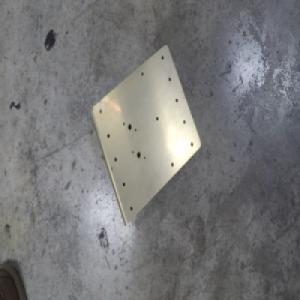MetalSheet: (87, 42, 202, 228)
